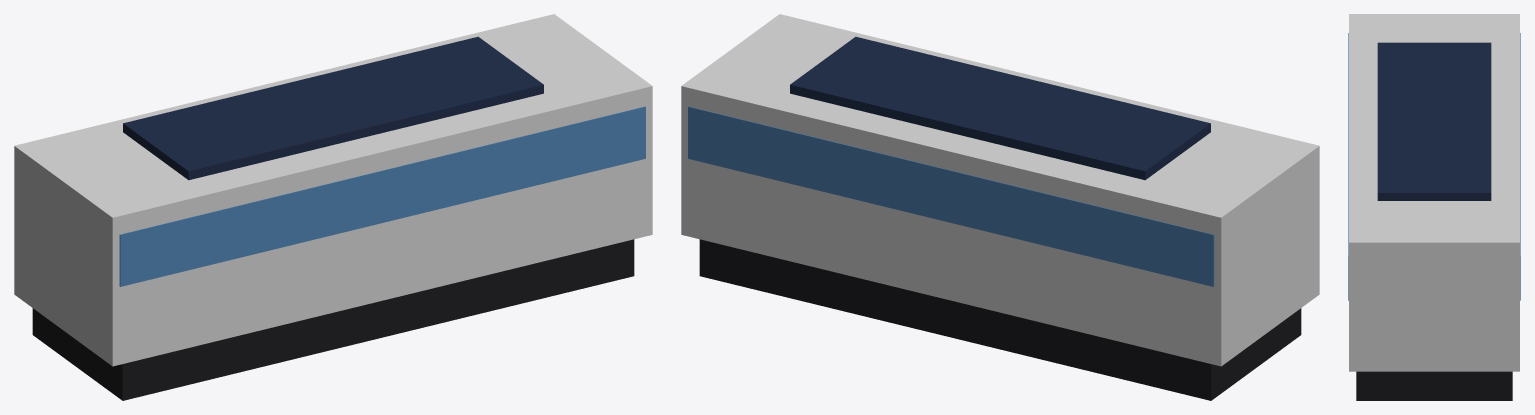
Rendered from coach_2012.glb.
3 views of the same model, side by side, from view 1: azimuth 30°, elevation 25°; view 2: azimuth 150°, elevation 25°; view 3: azimuth 270°, elevation 25° (orthographic). The views are drawn at different scales.
Parts seen in each view (by area): view 1: Body, Windows, Roof, Chassis; view 2: Body, Windows, Roof, Chassis; view 3: Body, Roof, Chassis, Windows.
Part boxes in pixels (bbox=[...]): Body: bbox=[14, 14, 652, 366]; Windows: bbox=[119, 106, 645, 286]; Roof: bbox=[123, 36, 543, 180]; Chassis: bbox=[32, 239, 634, 400]; Body: bbox=[681, 14, 1319, 366]; Windows: bbox=[688, 106, 1214, 286]; Roof: bbox=[790, 36, 1210, 180]; Chassis: bbox=[699, 239, 1301, 400]; Body: bbox=[1349, 14, 1519, 371]; Roof: bbox=[1377, 42, 1491, 200]; Chassis: bbox=[1356, 371, 1512, 400]; Windows: bbox=[1348, 33, 1520, 300].
Bounding box in the file's own units: 0.76 × 0.271 × 0.242.
